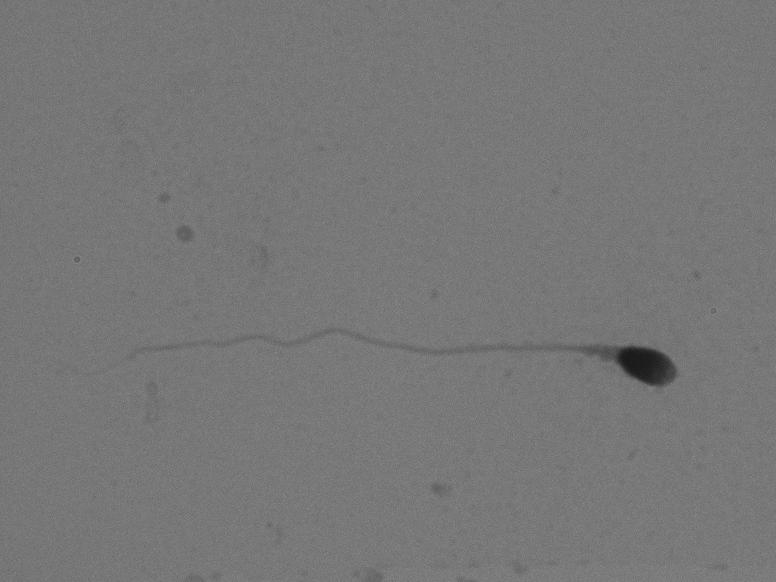Normal: (53, 275, 690, 406)
